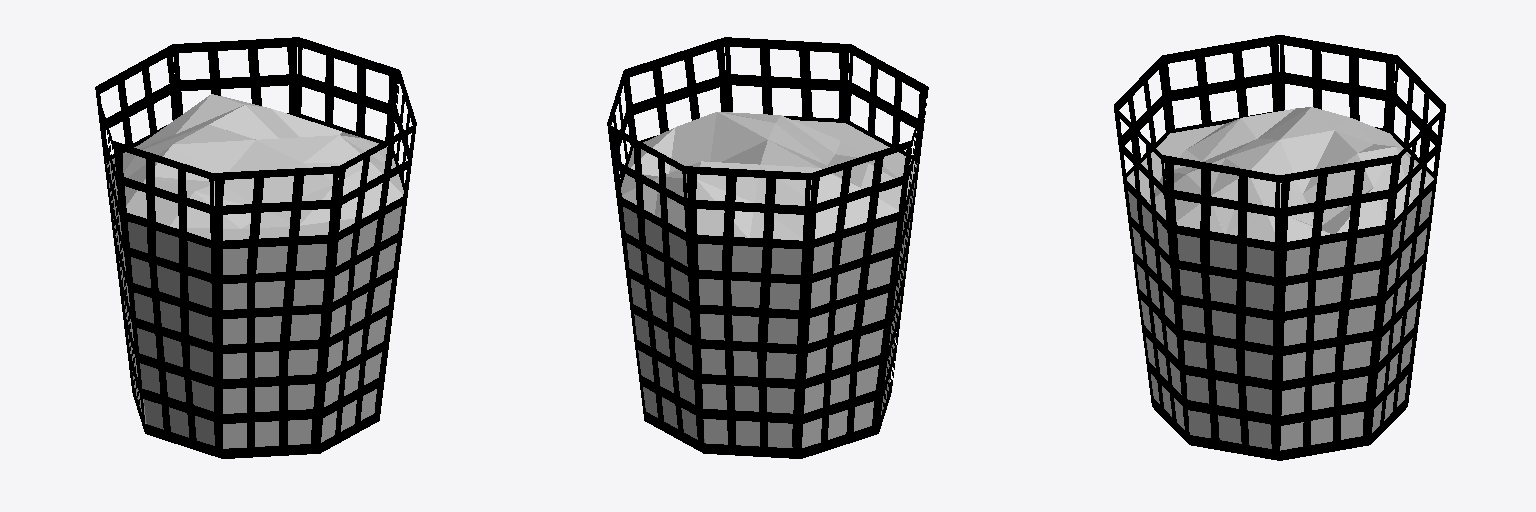
3 views of the same model, side by side, from view 1: azimuth 30°, elevation 25°; view 2: azimuth 150°, elevation 25°; view 3: azimuth 270°, elevation 25° (orthographic).
Parts seen in each view (by area): view 1: hamper_full; view 2: hamper_full; view 3: hamper_full.
Boxes of the visible parts, x1=… form: hamper_full: x1=95, y1=37, x2=416, y2=458; hamper_full: x1=607, y1=37, x2=928, y2=458; hamper_full: x1=1114, y1=35, x2=1445, y2=460.
Size of the model in its own units: 2 by 2 by 2.
Materials: 2 (1 with a texture image).